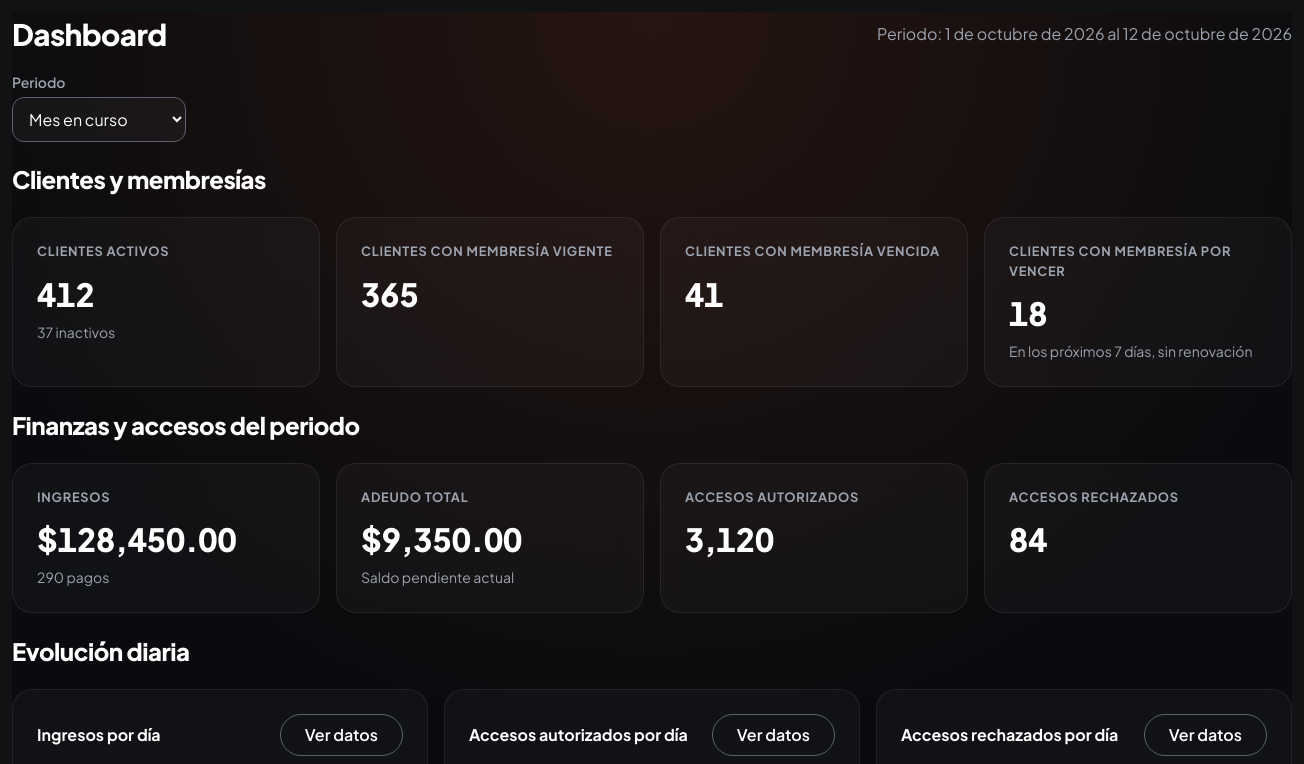
Test: dashboard administrativo › valida_el_rango_antes_de_pedirlo_y_conserva_las_cifras
Expected: the text "412" is shown, [37, 274, 95, 314]
Select "Rango de fechas" in the dropdown labelled "Periodo" at (99, 120), box [12, 97, 186, 142]
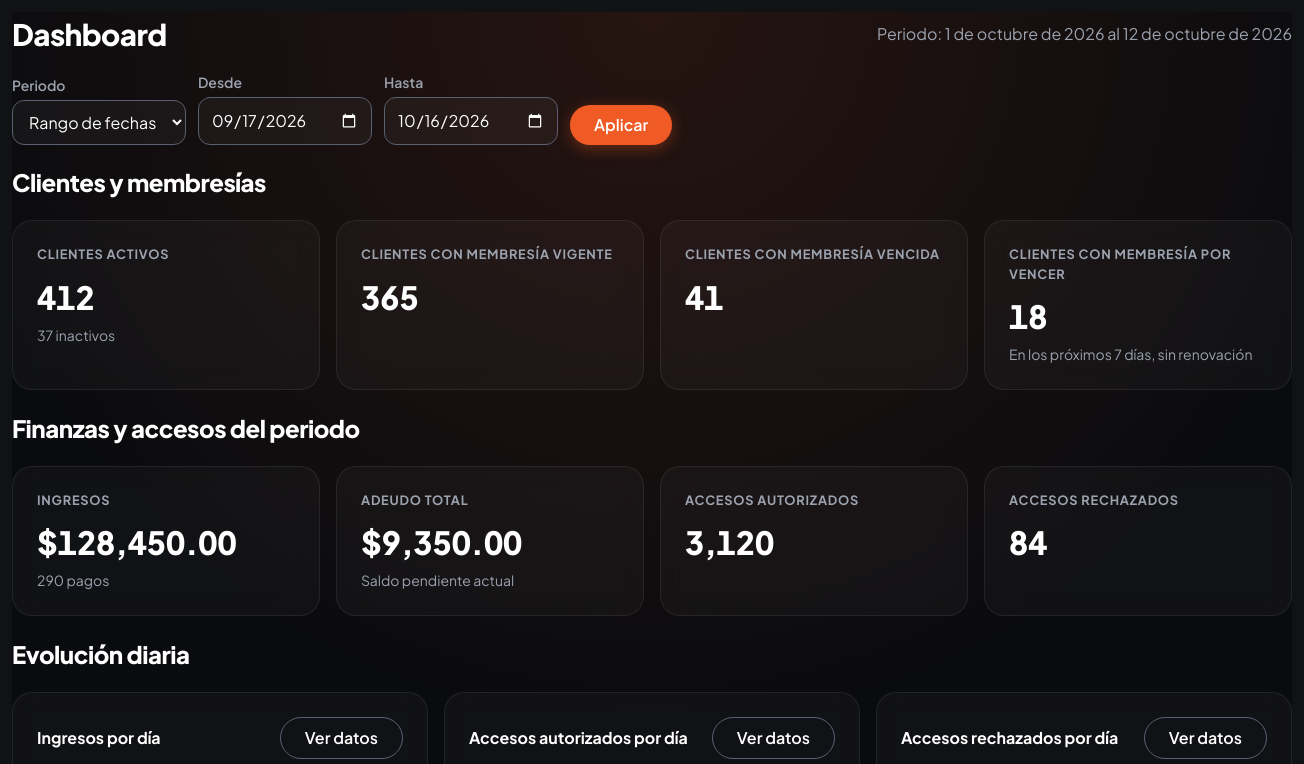
Type "2026-10-12" into the date field labelled "Desde".
click(285, 121); type("2026-10-12")  # box [198, 97, 372, 145]
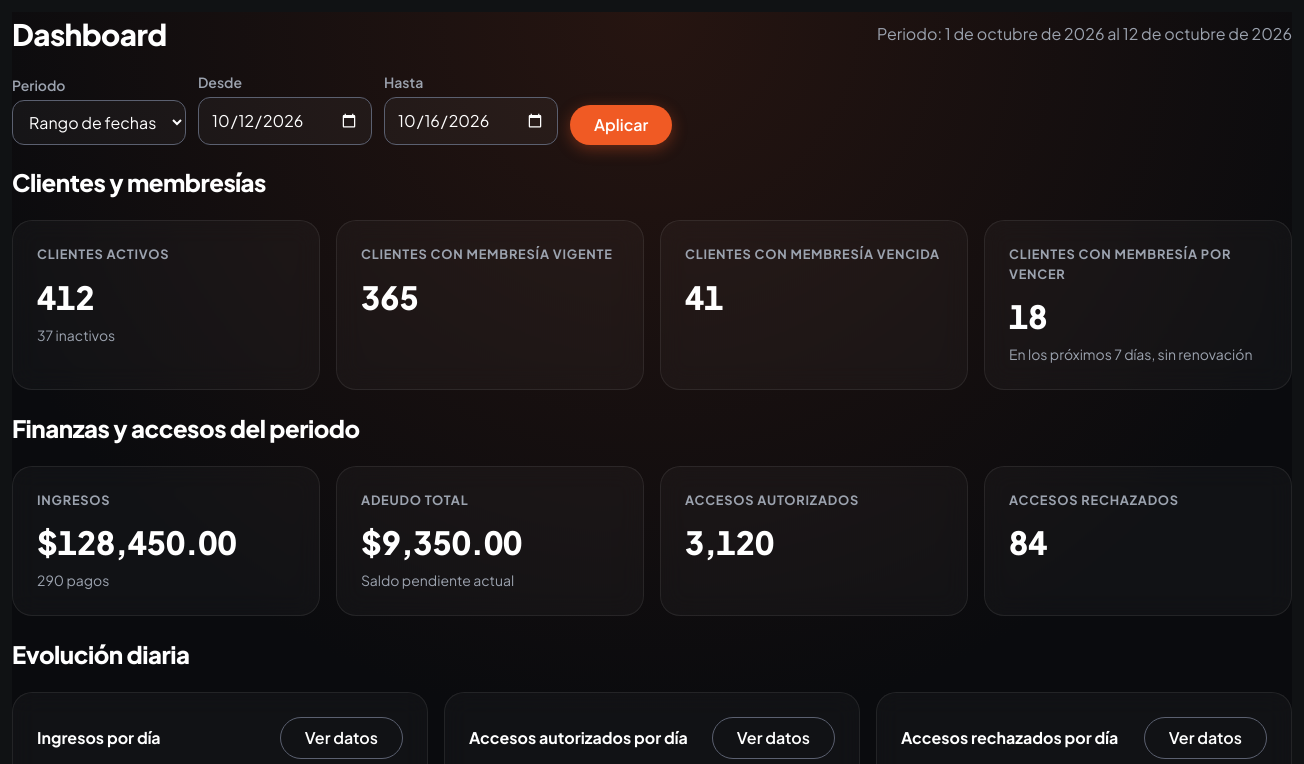
Type "2026-10-01" into the date field labelled "Hasta".
click(471, 121); type("2026-10-01")  # box [384, 97, 558, 145]
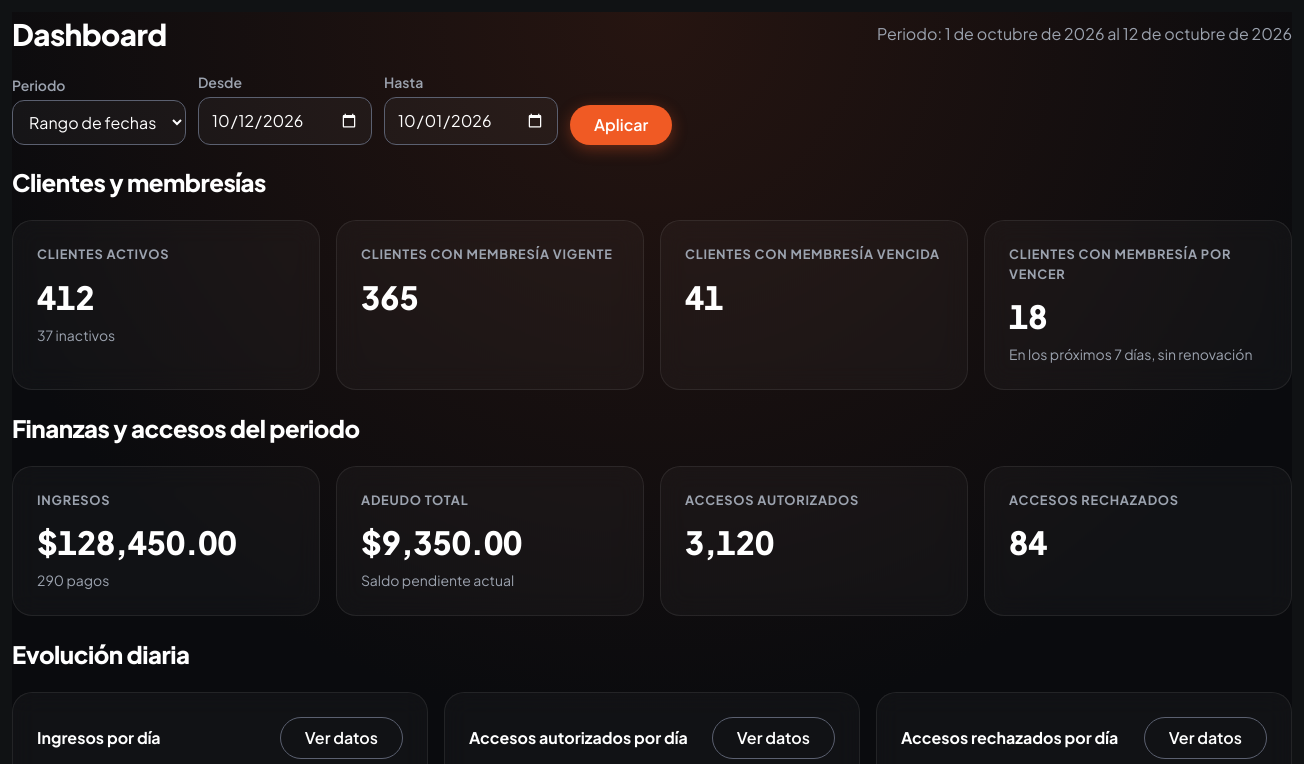
Click the button "Aplicar".
click(621, 125)  # box [570, 105, 672, 145]
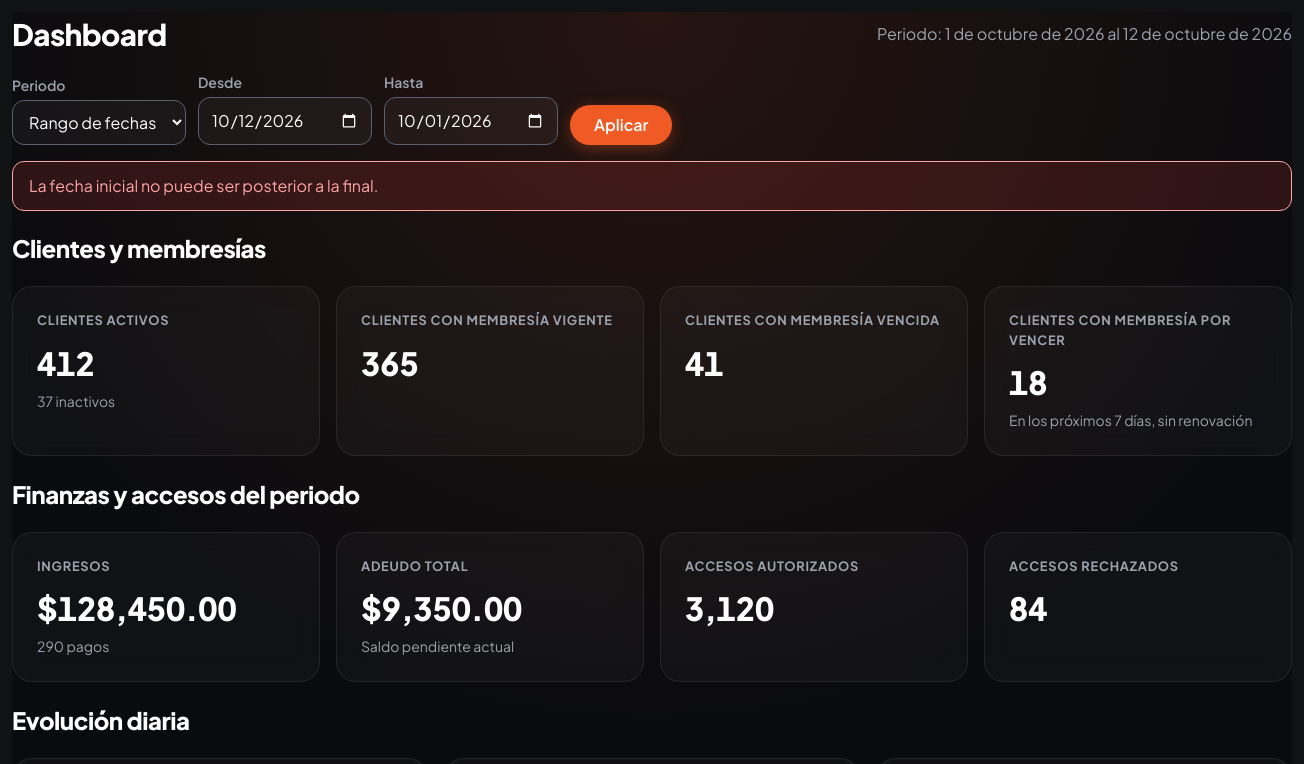
Expected: the text "412" is shown, [37, 343, 95, 383]
Now the message reads "La fecha inicial no puede ser posterior a la final.", box [29, 175, 378, 196]
